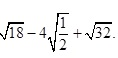division: (58, 31, 67, 37)
sqrt: (47, 10, 68, 52), (1, 18, 25, 41), (86, 21, 112, 41)
